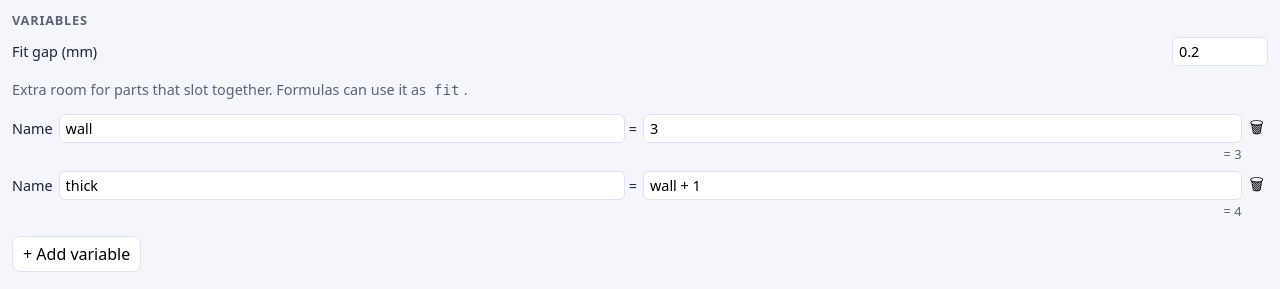
it: VariablesPanel › changing a variable resizes the parts that use it
This screenshot has width=1280, height=289.
Replace the text in the field with test id "var-expr-wall" with "5": (942, 128) x1=643 y1=114 x2=1242 y2=143
Then press Enter
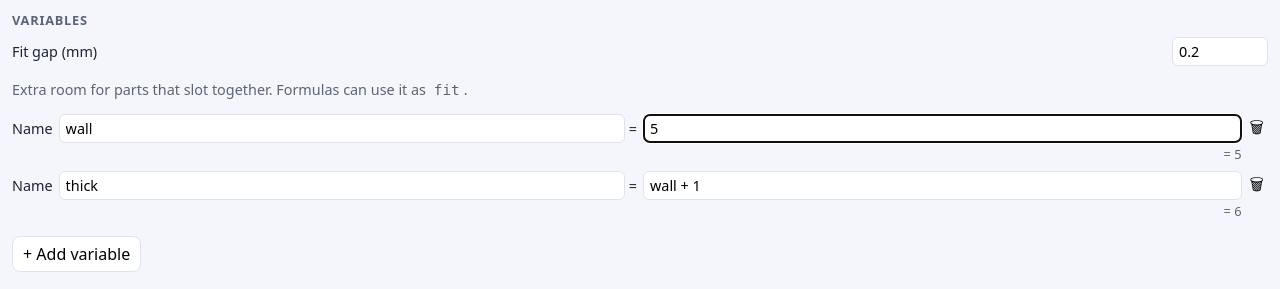
expect the text with test id "var-expr-thick-value" reads "= 6": met, box x1=1224 y1=202 x2=1242 y2=220
